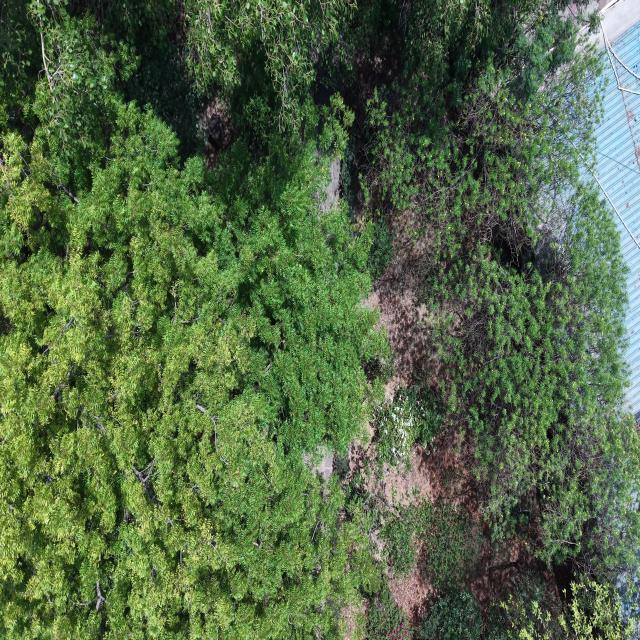DRY_AREA: (347, 427, 535, 610), (376, 430, 535, 610), (364, 210, 447, 399), (365, 212, 444, 399), (365, 212, 437, 390), (350, 431, 481, 527), (384, 433, 476, 510), (388, 564, 435, 625), (198, 95, 234, 169), (339, 600, 366, 639)
ROOFTOP_BUILDING: (595, 0, 639, 417)
VEGETATION_TREE: (0, 0, 639, 639), (0, 4, 384, 638), (0, 105, 378, 637), (368, 7, 639, 573), (184, 0, 355, 129), (381, 500, 480, 591), (501, 577, 633, 639), (372, 385, 444, 465), (418, 588, 482, 639), (366, 583, 413, 639), (368, 222, 392, 279)
